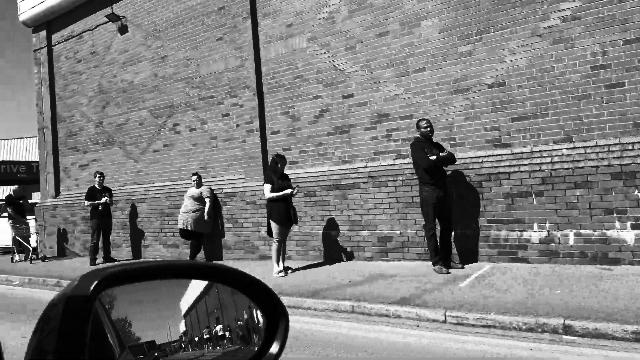berdiri: (402, 118, 476, 280), (262, 148, 304, 276)
